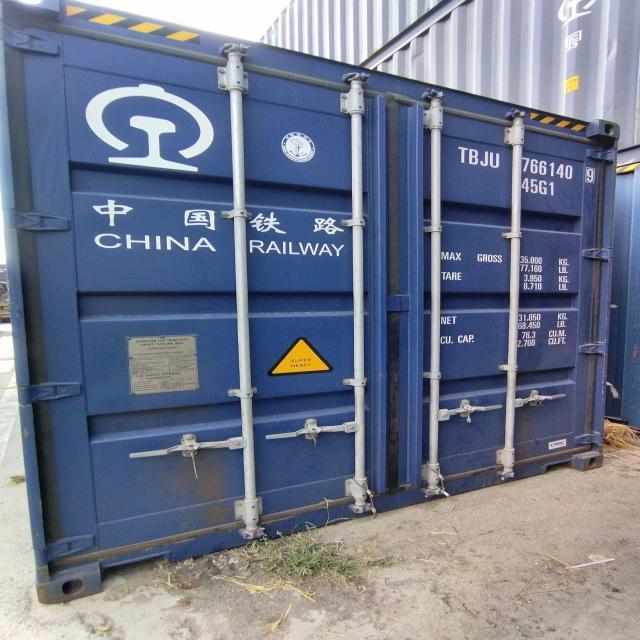ISO: (524, 178, 556, 196)
container_number: (459, 150, 605, 178)
